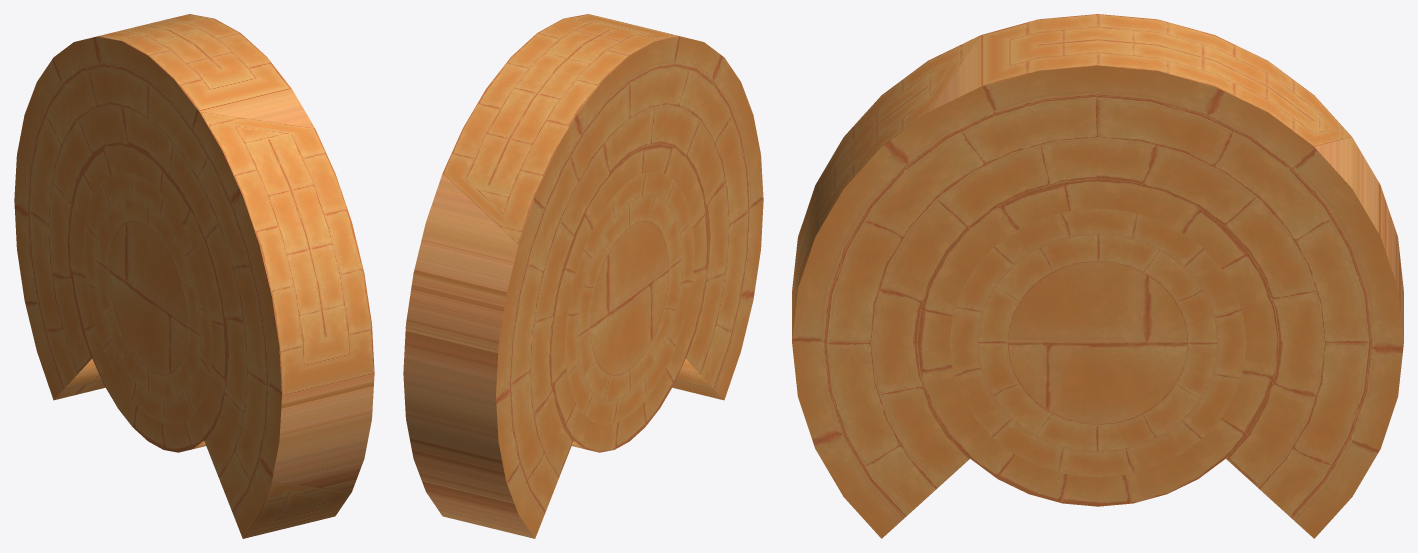
File: pm-temple-embelisher-02.glb
The picture shows the model from 3 angles, left to right: view 1: azimuth 30°, elevation 25°; view 2: azimuth 150°, elevation 25°; view 3: azimuth 270°, elevation 25°; orthographic projection. The views are drawn at different scales.
Parts seen in each view (by area): view 1: TempleEmbelisher02_Art; view 2: TempleEmbelisher02_Art; view 3: TempleEmbelisher02_Art.
Part boxes in pixels (box(x1,y1,x2,y2)): TempleEmbelisher02_Art: box(14, 14, 374, 538); TempleEmbelisher02_Art: box(403, 14, 763, 538); TempleEmbelisher02_Art: box(792, 14, 1403, 538).
Bounding box in the file's own units: 3.96 × 16.92 × 19.82.
1 material, 1 textured.
